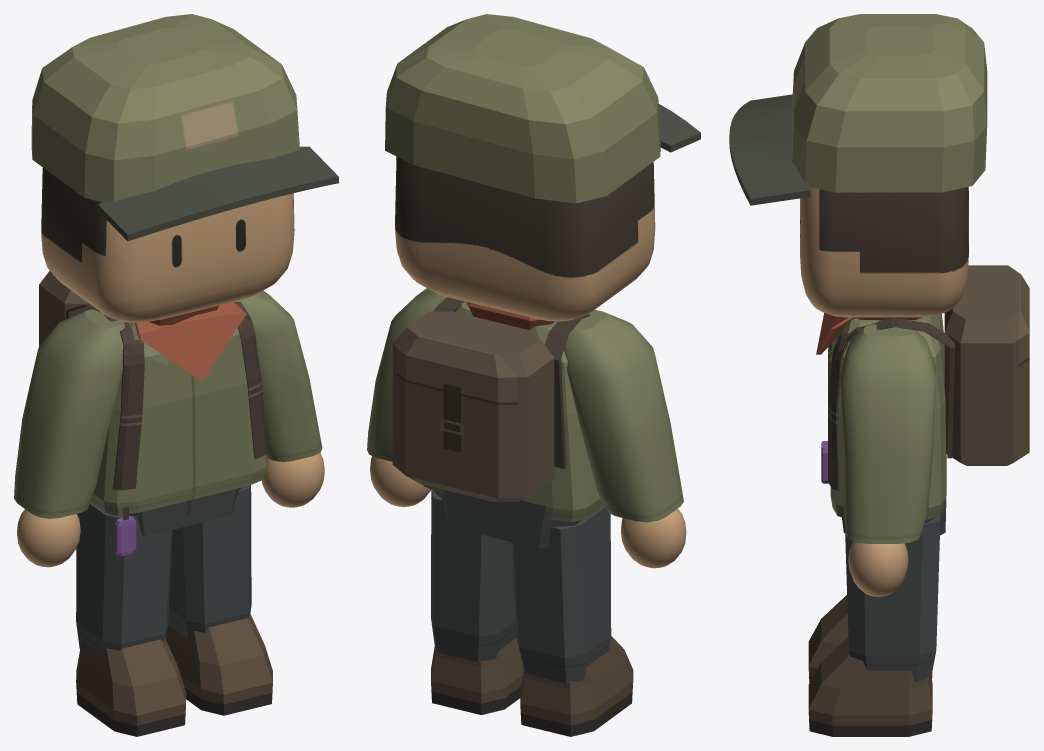
File: SimpleHero_Stage2.fbx
3 views of the same model, side by side, from view 1: azimuth 30°, elevation 25°; view 2: azimuth 150°, elevation 25°; view 3: azimuth 270°, elevation 25° (orthographic). The views are drawn at different scales.
Parts seen in each view (by area): view 1: Study_Cap, Study_Head, Study_Torso, Study_Sleeve_-1, Study_Leg_-1, Study_CapBrim, Study_Leg_1, Study_Boot_-1, Study_Sleeve_1, Gear_Backpack, Study_Boot_1, Gear_Scarf (+4 smaller); view 2: Study_Cap, Study_Head, Gear_Backpack, Study_Sleeve_-1, Study_Leg_-1, Study_Leg_1, Study_Boot_-1, Study_Boot_1, Study_Torso, Study_Hips, Study_Sleeve_1, Study_Mitten_-1 (+3 smaller); view 3: Study_Cap, Study_Head, Study_Sleeve_1, Gear_Backpack, Study_Leg_1, Study_Boot_1, Study_CapBrim, Study_Torso, Study_Mitten_1, Study_Boot_-1, Gear_Scarf.
Boxes of the visible parts, x1,y1,x2,y2 form: Study_Cap: (31, 14, 299, 202); Study_Head: (41, 167, 294, 322); Study_Torso: (90, 322, 267, 515); Study_Sleeve_-1: (14, 309, 124, 518); Study_Leg_-1: (76, 502, 172, 654); Study_CapBrim: (98, 146, 338, 241); Study_Leg_1: (168, 485, 251, 639); Study_Boot_-1: (76, 638, 186, 736); Study_Sleeve_1: (233, 290, 322, 461); Gear_Backpack: (39, 271, 267, 490); Study_Boot_1: (165, 613, 272, 715); Gear_Scarf: (135, 301, 246, 381); Study_Cap: (385, 14, 660, 203); Study_Head: (395, 156, 655, 321); Gear_Backpack: (392, 297, 590, 501); Study_Sleeve_-1: (564, 309, 683, 522); Study_Leg_-1: (511, 505, 611, 683); Study_Leg_1: (431, 489, 516, 661); Study_Boot_-1: (520, 635, 633, 736); Study_Boot_1: (431, 638, 523, 714); Study_Torso: (423, 301, 604, 522); Study_Hips: (433, 490, 581, 548); Study_Sleeve_1: (367, 288, 446, 461); Study_Mitten_-1: (621, 508, 686, 568); Study_Cap: (792, 14, 987, 192); Study_Head: (800, 187, 968, 317); Study_Sleeve_1: (840, 324, 936, 543); Gear_Backpack: (828, 265, 1029, 490); Study_Leg_1: (844, 516, 940, 682); Study_Boot_1: (808, 637, 932, 736); Study_CapBrim: (729, 94, 810, 205); Study_Torso: (830, 314, 946, 519); Study_Mitten_1: (848, 541, 908, 596); Study_Boot_-1: (808, 595, 932, 682); Gear_Scarf: (816, 313, 931, 354).
Size of the model in its own units: 87.4 by 178 by 73.75.
